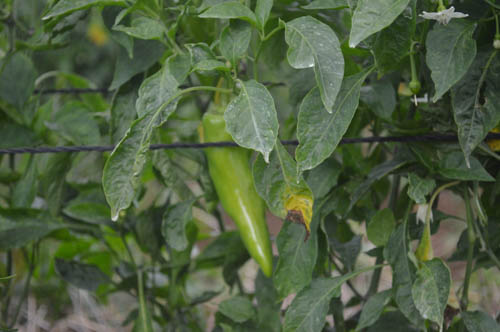ChiliPepper: (202, 113, 275, 274)
